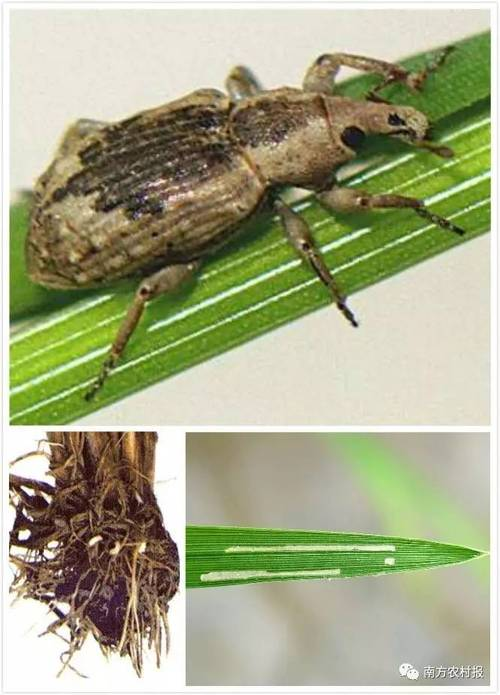Curculionidae: (22, 44, 465, 403)
